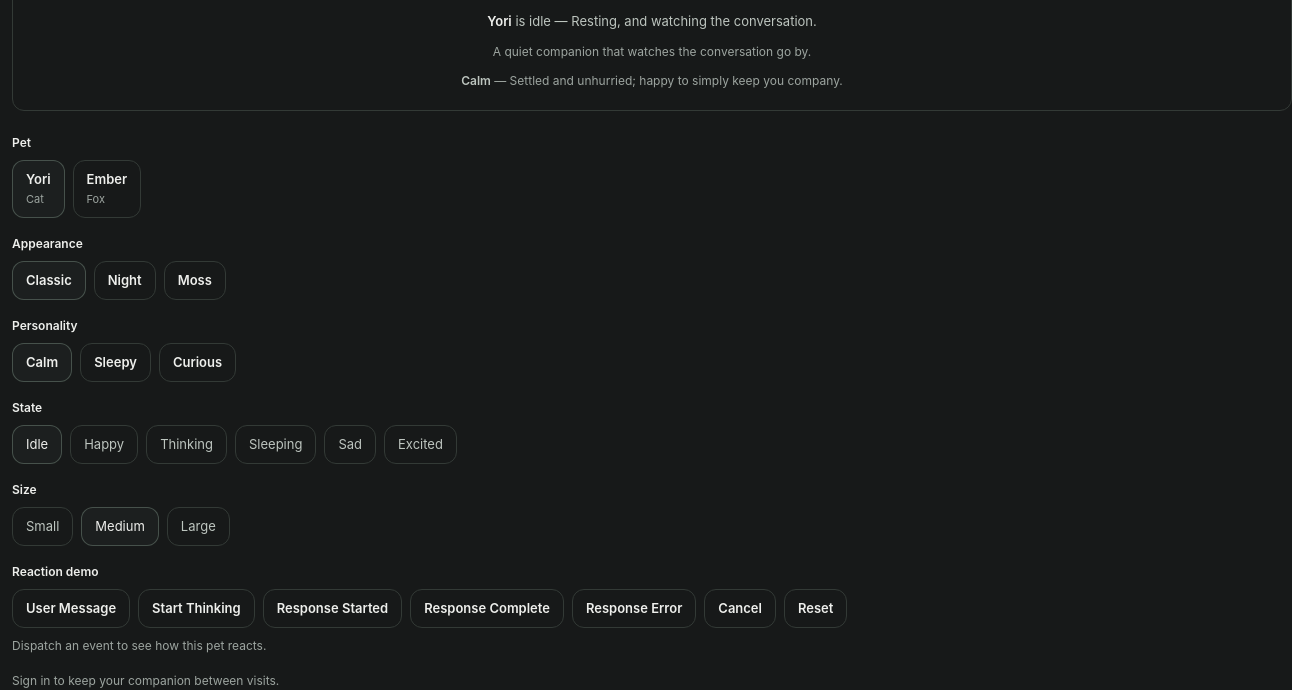
Test case: the playground's reaction demo › keeps the comparison readable after a temporary reaction settles
The width and height of the screenshot is (1292, 690).
(page scrolled)
Click the button "Response Complete" at (487,608), box [410,589,564,628]
Wait 1600 ms
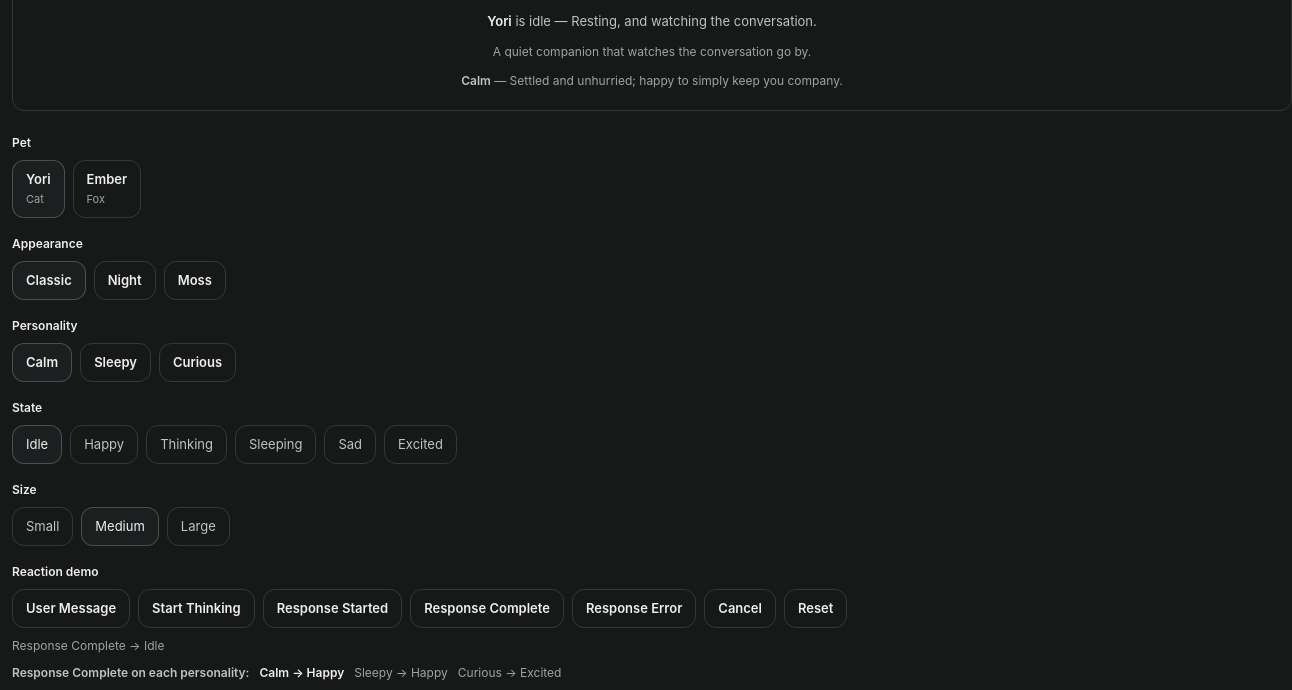
Now the text "Response Complete → Idle" is shown, box [12,638,164,653]
